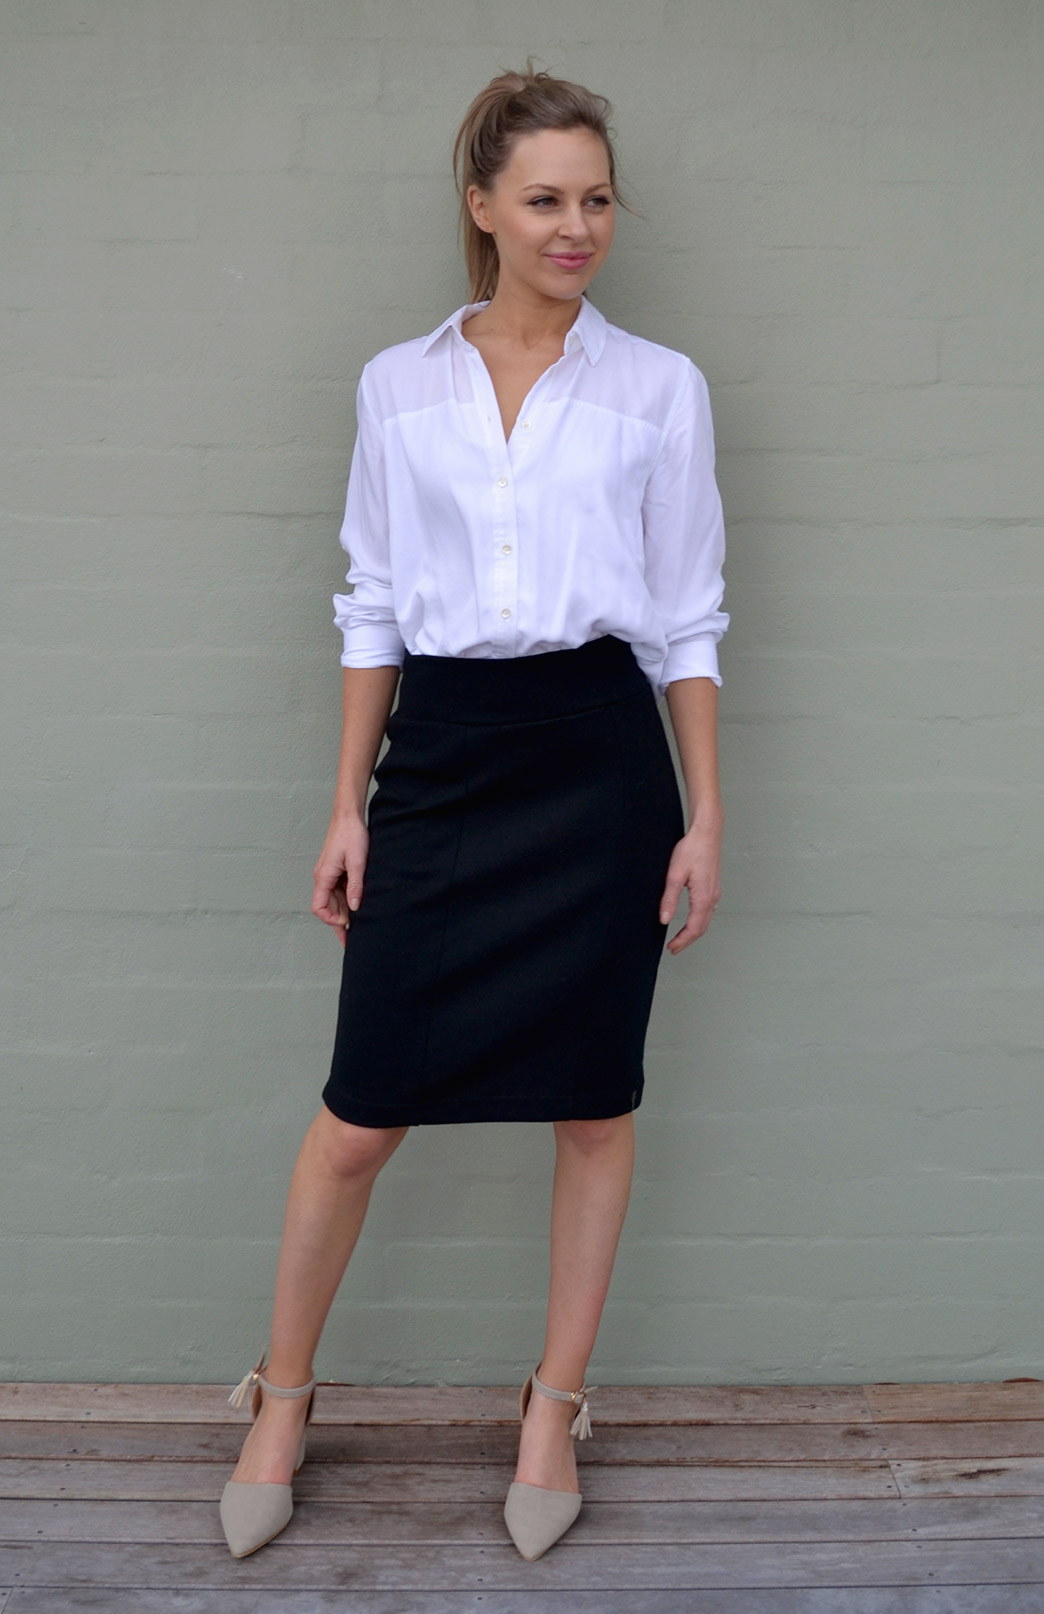F_shirt: (275, 305, 782, 681)
F_tailored skirt: (297, 638, 704, 1138)
